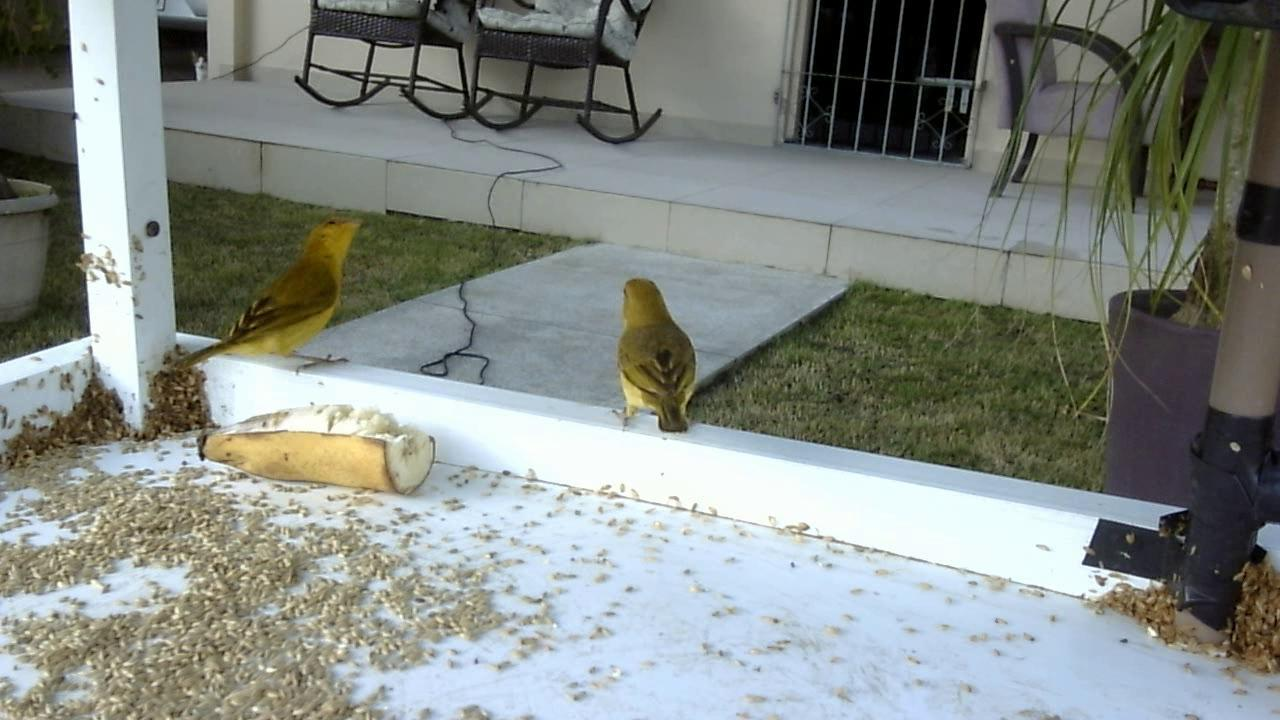canario_do_amazonas: (174, 218, 378, 382), (606, 272, 706, 442)
